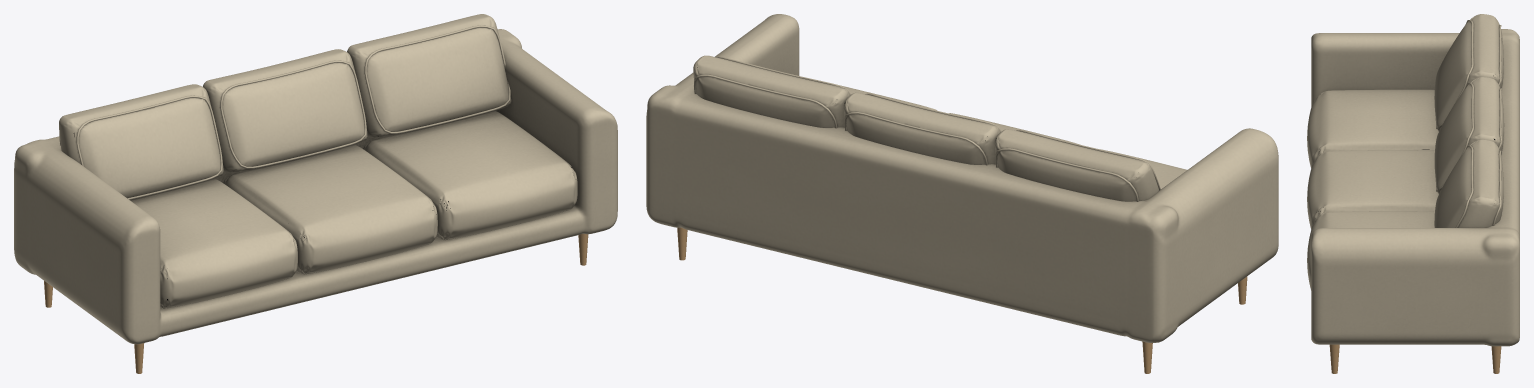
The model's file is pana-arena.gltf.
The picture shows the model from 3 angles, left to right: view 1: azimuth 30°, elevation 25°; view 2: azimuth 150°, elevation 25°; view 3: azimuth 270°, elevation 25°; orthographic projection. The views are drawn at different scales.
Parts seen in each view (by area): view 1: tela_ar, madera_ar; view 2: tela_ar, madera_ar; view 3: tela_ar, madera_ar.
Part boxes in pixels (bbox=[...]): tela_ar: bbox=[14, 14, 617, 344]; madera_ar: bbox=[44, 233, 588, 373]; tela_ar: bbox=[646, 14, 1278, 342]; madera_ar: bbox=[677, 227, 1247, 373]; tela_ar: bbox=[1307, 14, 1519, 346]; madera_ar: bbox=[1329, 344, 1501, 373].
Bounding box in the file's own units: 2.2 × 0.8095 × 0.9156.
2 materials, 2 textured.
